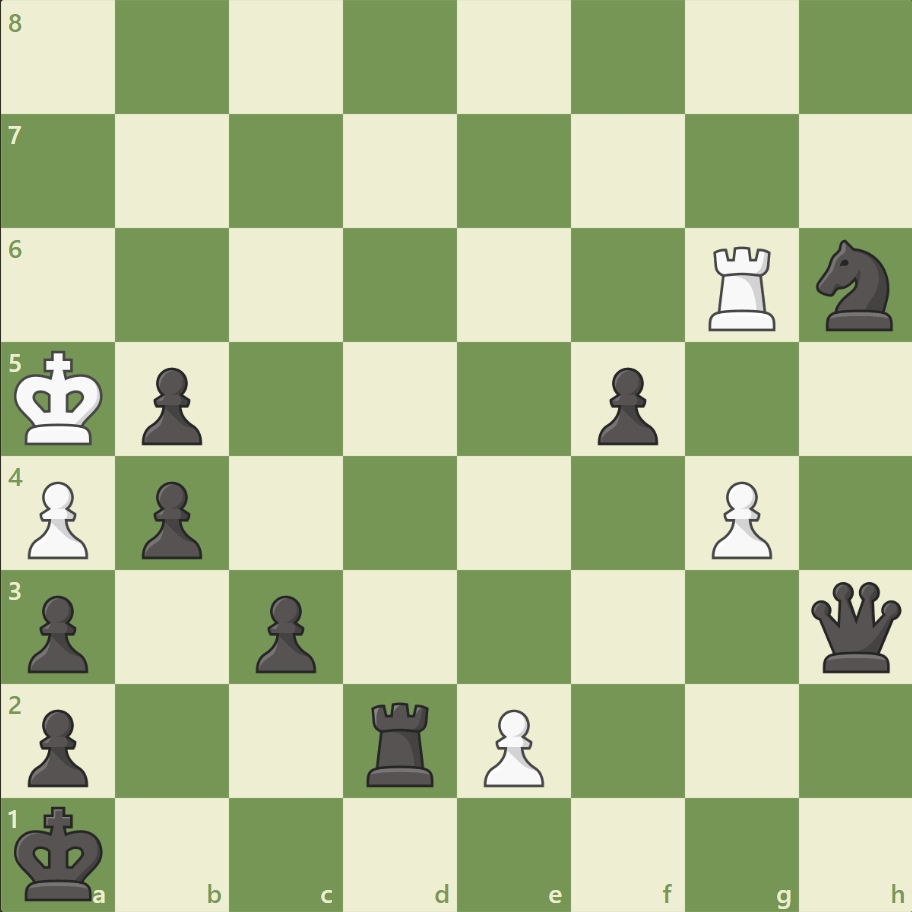K: (11, 344, 111, 452)
P: (20, 473, 95, 564), (701, 473, 776, 564), (474, 700, 549, 791)
R: (700, 239, 783, 336)
k: (11, 798, 111, 906)
n: (806, 234, 903, 337)
p: (133, 359, 208, 450), (133, 473, 208, 564), (20, 586, 95, 677), (247, 586, 322, 677), (20, 700, 95, 791), (588, 359, 662, 450)
q: (805, 576, 904, 676)
r: (360, 693, 442, 790)
